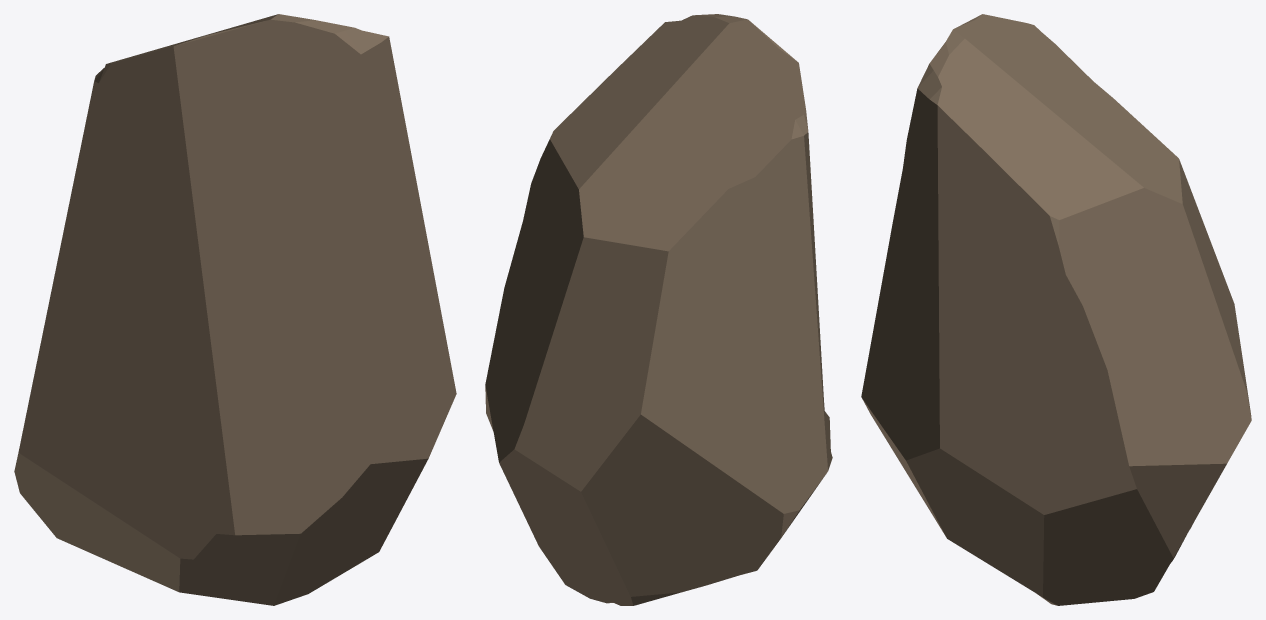
File: rock_5.fbx
The picture shows the model from 3 angles, left to right: view 1: azimuth 30°, elevation 25°; view 2: azimuth 150°, elevation 25°; view 3: azimuth 270°, elevation 25°; orthographic projection. The views are drawn at different scales.
Parts seen in each view (by area): view 1: rock_5; view 2: rock_5; view 3: rock_5.
Boxes of the visible parts, x1,y1,x2,y2 form: rock_5: (14,14,456,605); rock_5: (485,14,832,605); rock_5: (861,14,1251,605).
Bounding box in the file's own units: 1.74 × 2.71 × 1.81.
